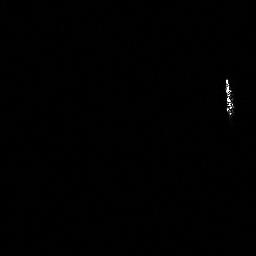ship: (222, 76, 237, 119)
